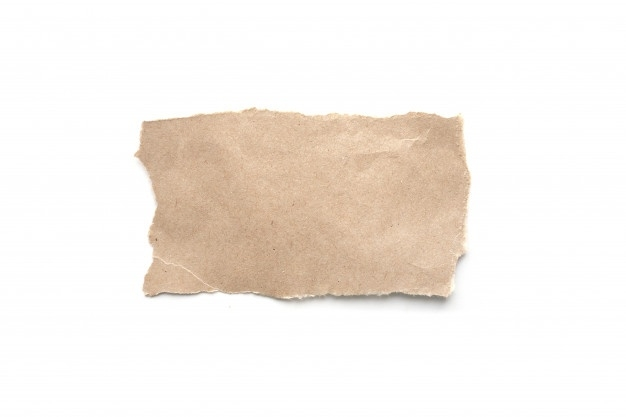paper: (129, 104, 481, 312)
